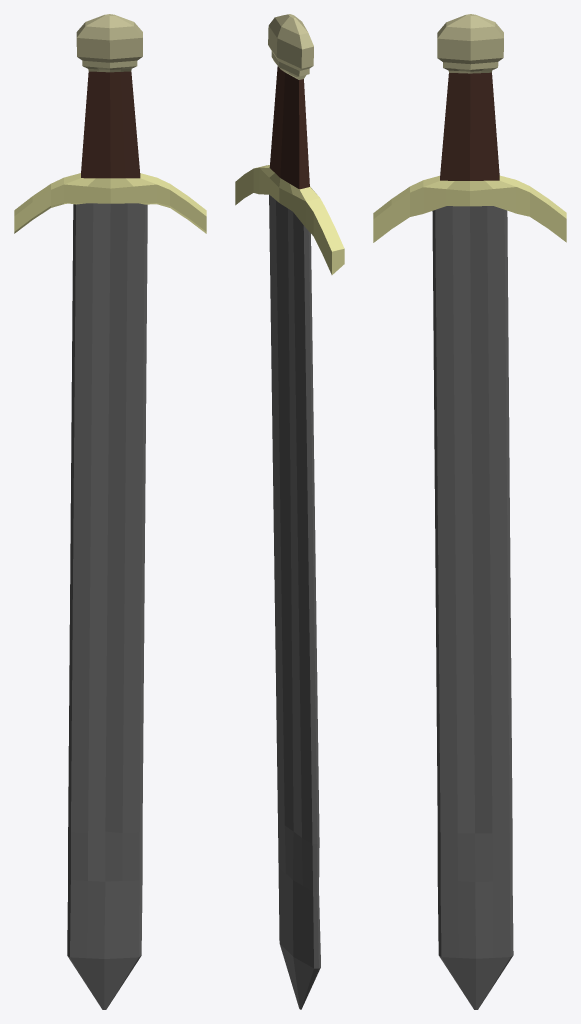
Rendered from Sword (1).fbx.
3 renders of one model, left to right at view 1: azimuth 90°, elevation 25°; view 2: azimuth 210°, elevation 25°; view 3: azimuth 270°, elevation 25°, orthographic.
Parts seen in each view (by area): view 1: Cylinder.030; view 2: Cylinder.030; view 3: Cylinder.030.
Part boxes in pixels (left/top/right/bottom): Cylinder.030: left=14, top=14, right=206, bottom=1009; Cylinder.030: left=235, top=14, right=344, bottom=1009; Cylinder.030: left=373, top=14, right=566, bottom=1009.
Size of the model in its own units: 2.28 by 75.42 by 13.24.
